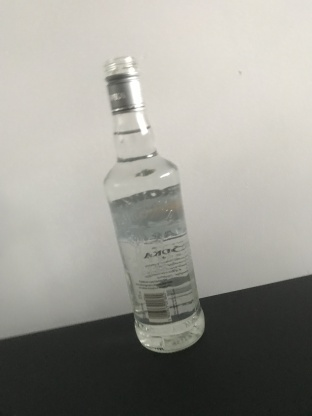nakretka: (102, 53, 147, 117)
